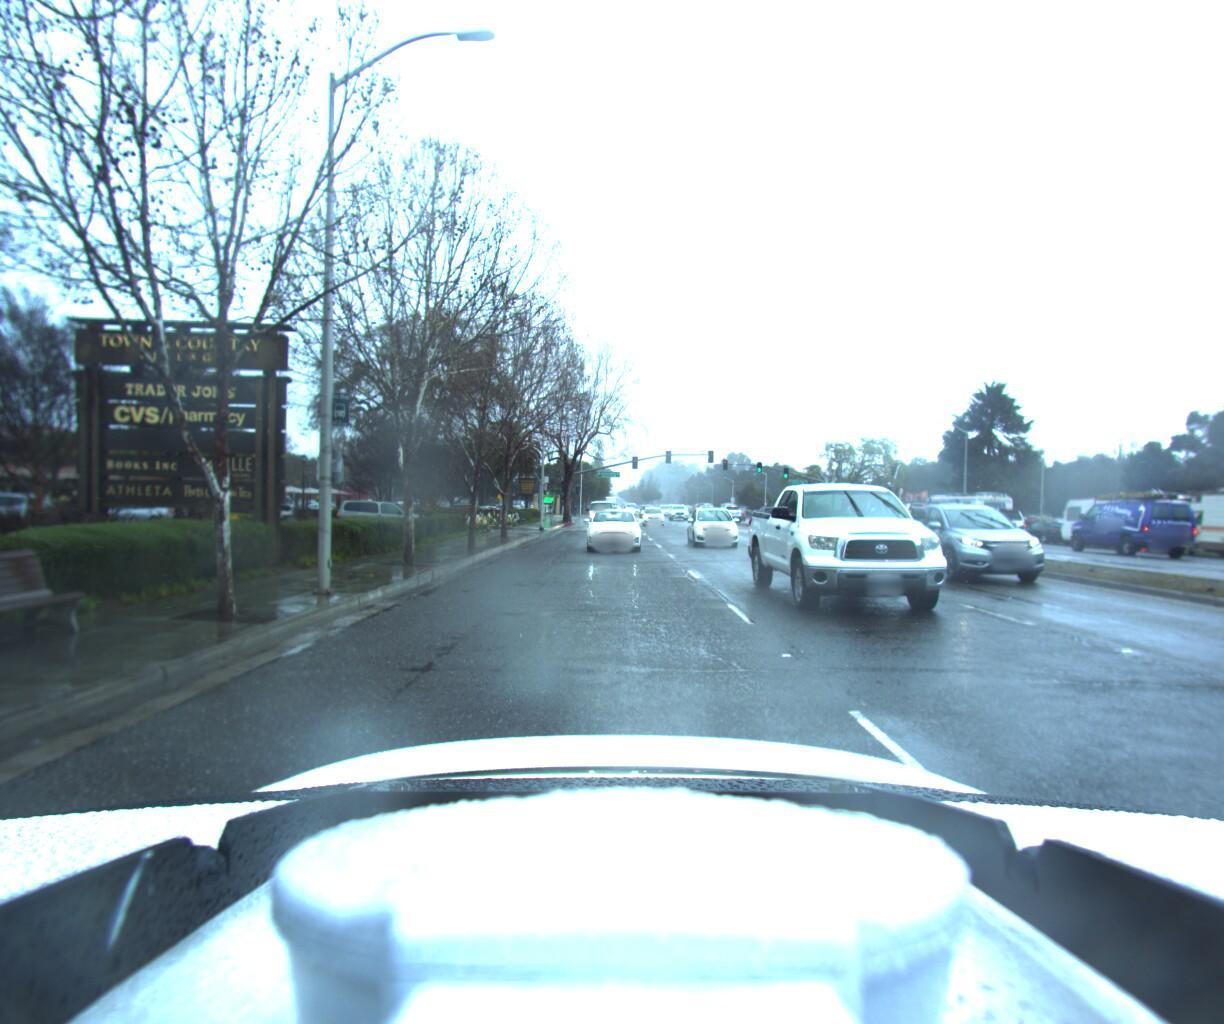car: (750, 473, 1002, 638), (912, 500, 1092, 598), (1066, 485, 1201, 553), (329, 498, 427, 539), (883, 493, 965, 537), (585, 506, 642, 556), (683, 505, 746, 551), (1014, 518, 1077, 545), (582, 502, 612, 528), (751, 504, 779, 523), (640, 505, 665, 525), (715, 503, 741, 521), (668, 504, 689, 520)
other_vehicle: (1052, 484, 1209, 555), (1166, 477, 1224, 569), (916, 487, 1013, 539)
